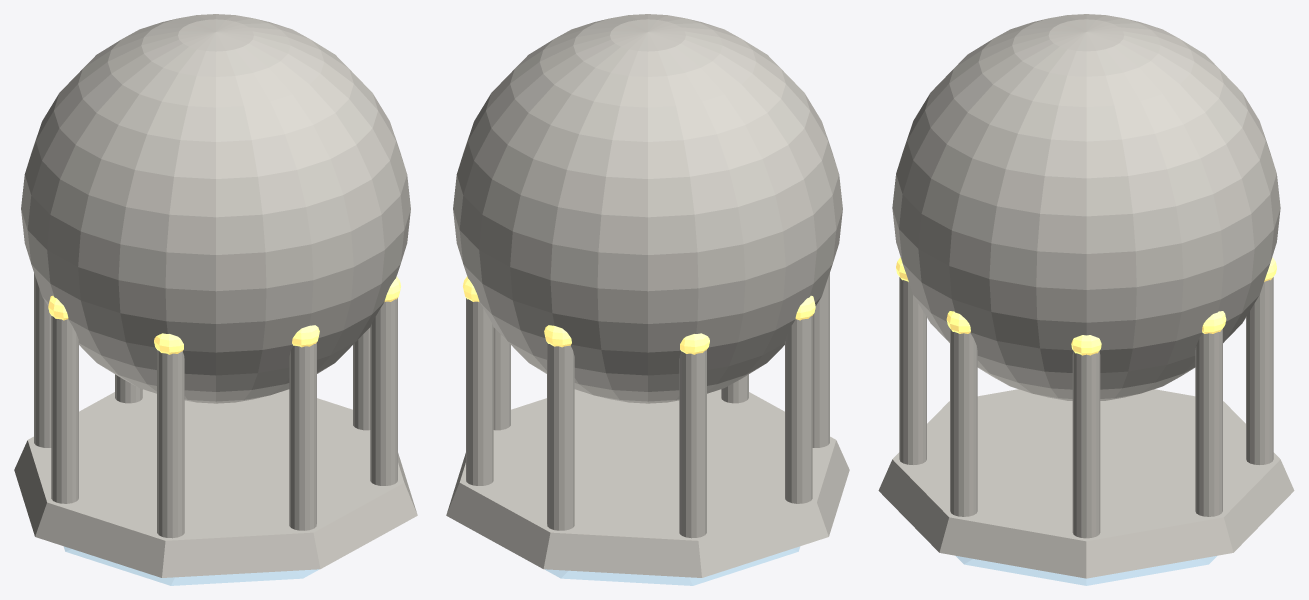
Rendered from SkyTemple.fbx.
The picture shows the model from 3 angles, left to right: view 1: azimuth 30°, elevation 25°; view 2: azimuth 150°, elevation 25°; view 3: azimuth 270°, elevation 25°; orthographic projection.
Visible parts, largest first — view 1: SkyTemple; view 2: SkyTemple; view 3: SkyTemple.
Part boxes in pixels (<box>): SkyTemple: <box>14,14,417,585</box>; SkyTemple: <box>446,14,849,585</box>; SkyTemple: <box>878,14,1294,585</box>.
Bounding box in the file's own units: 6 × 7.65 × 6.
